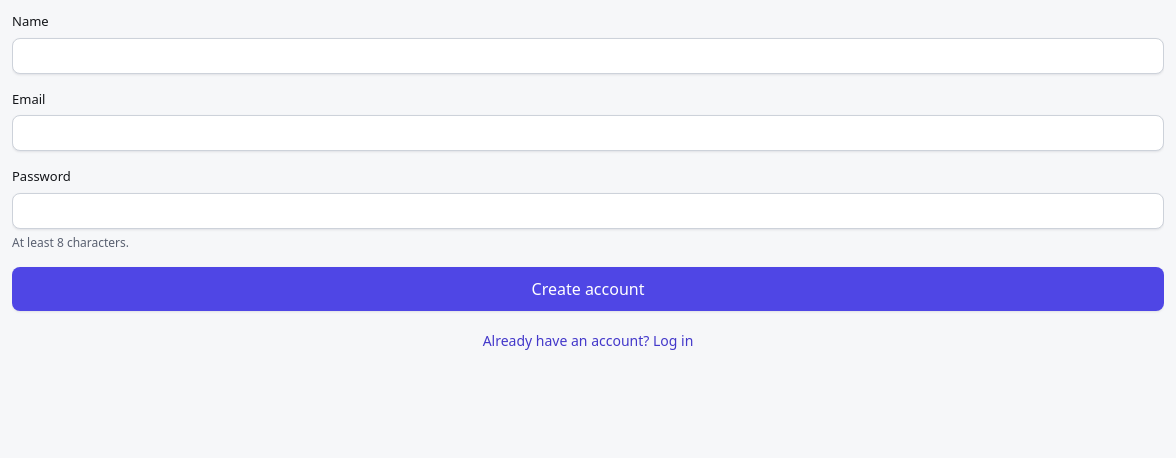
Test: auth forms › normalizes registration and displays API field errors
Type " Ada " into the field labelled "Name" at (588, 56), box [12, 38, 1164, 74]
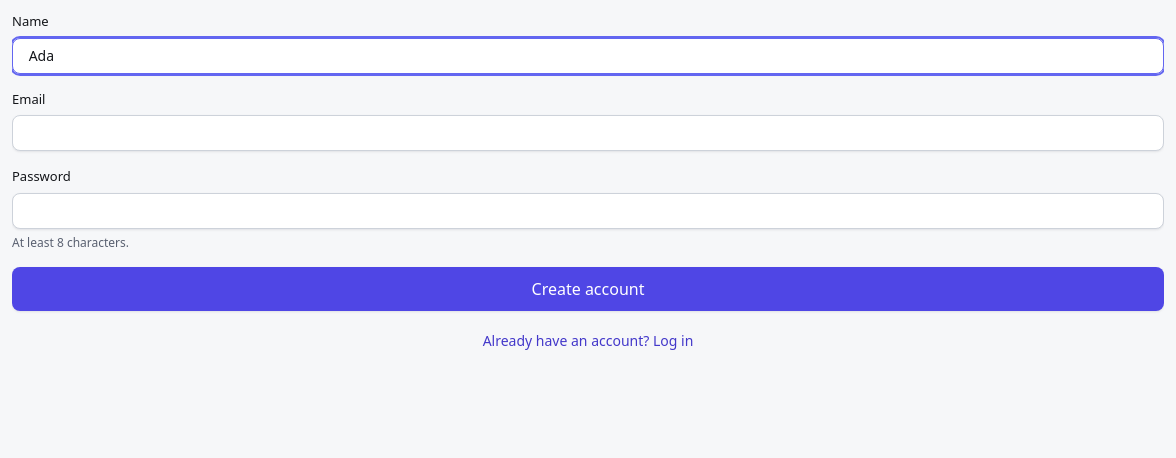
Type "ADA@example.com" into the field labelled "Email" at (588, 133), box [12, 115, 1164, 151]
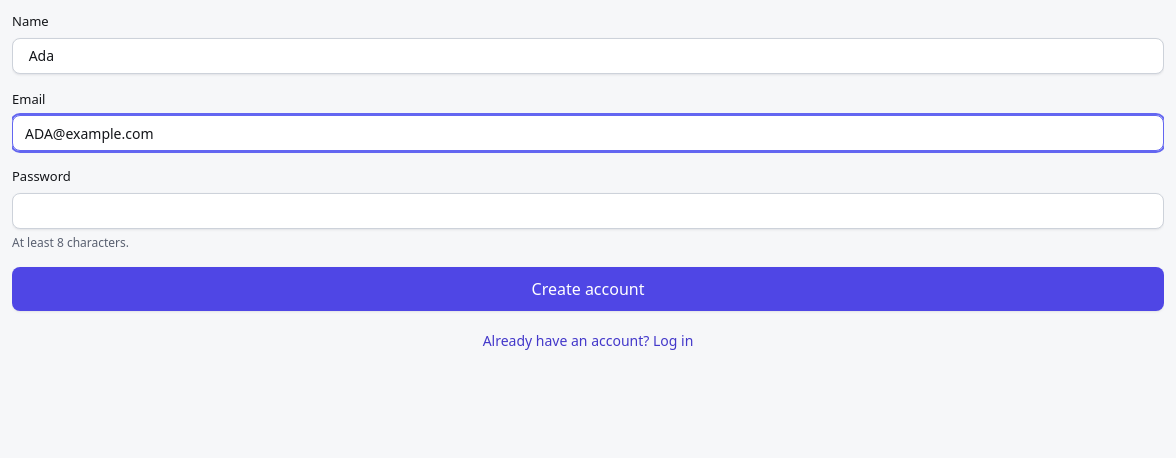
Type "password123" into the password field labelled "Password" at (588, 210), box [12, 192, 1164, 228]
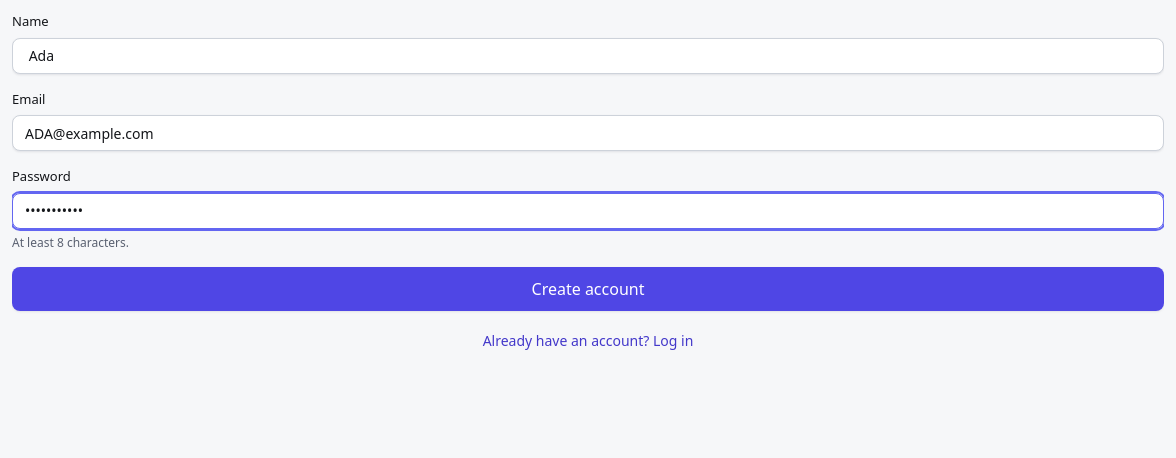
Click the button "Create account" at (588, 288), box [12, 266, 1164, 310]
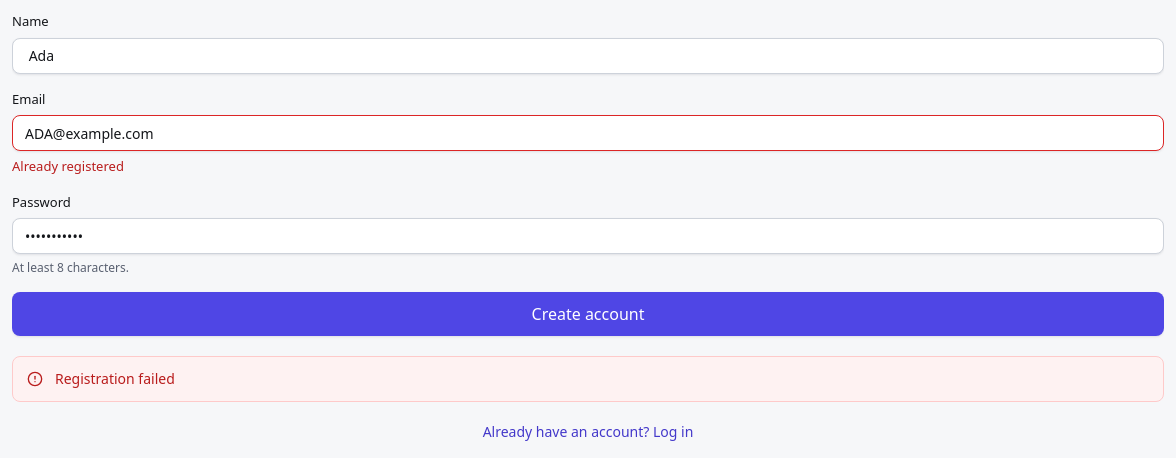
Expected: the text "Already registered" is shown, [12, 157, 124, 175]
